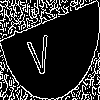V: (25, 25, 53, 79)
